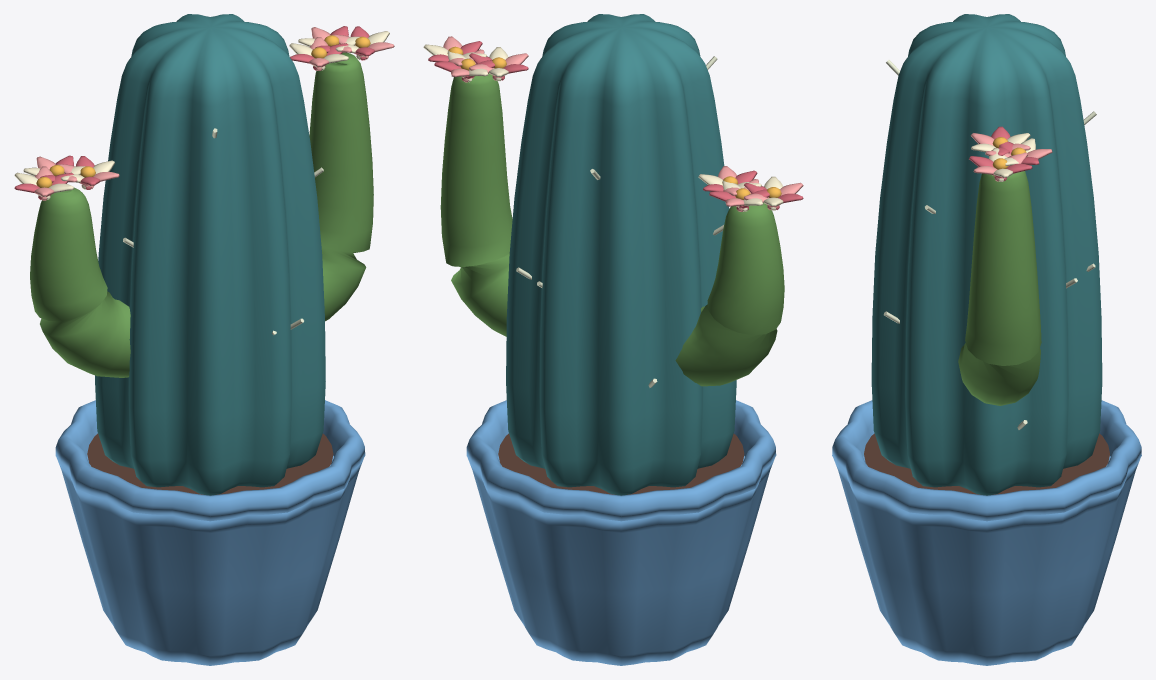
File: atelier_cactus.glb
3 renders of one model, left to right at view 1: azimuth 30°, elevation 25°; view 2: azimuth 150°, elevation 25°; view 3: azimuth 270°, elevation 25°, orthographic.
Visible parts, largest first — view 1: Cactus en flor; view 2: Cactus en flor; view 3: Cactus en flor.
Boxes of the visible parts, <box> form: Cactus en flor: <box>14,14,394,665</box>; Cactus en flor: <box>423,14,803,665</box>; Cactus en flor: <box>832,14,1141,665</box>.
Bounding box in the file's own units: 0.693 × 1.05 × 0.4939.
